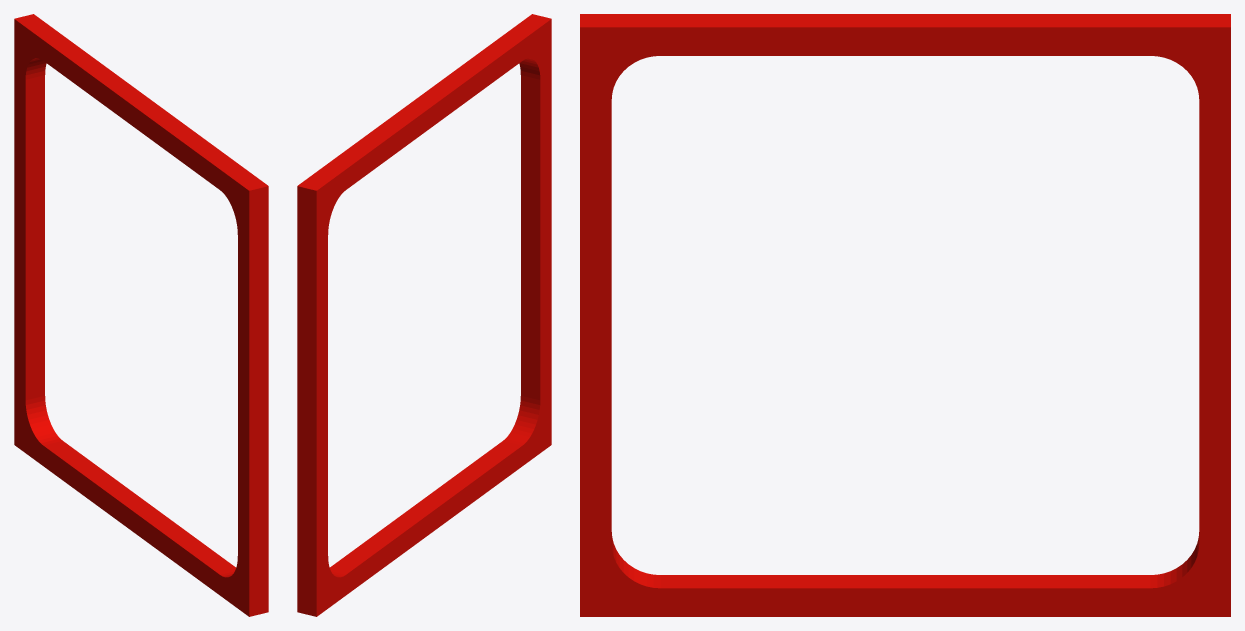
File: challange2.dae
3 views of the same model, side by side, from view 1: azimuth 30°, elevation 25°; view 2: azimuth 150°, elevation 25°; view 3: azimuth 270°, elevation 25° (orthographic). The views are drawn at different scales.
Visible parts, largest first — view 1: Challange 2; view 2: Challange 2; view 3: Challange 2.
Boxes of the visible parts, x1,y1,x2,y2 form: Challange 2: (14,14,268,616); Challange 2: (297,14,551,616); Challange 2: (580,14,1230,616).
Bounding box in the file's own units: 0.1139 × 2.37 × 2.37.
